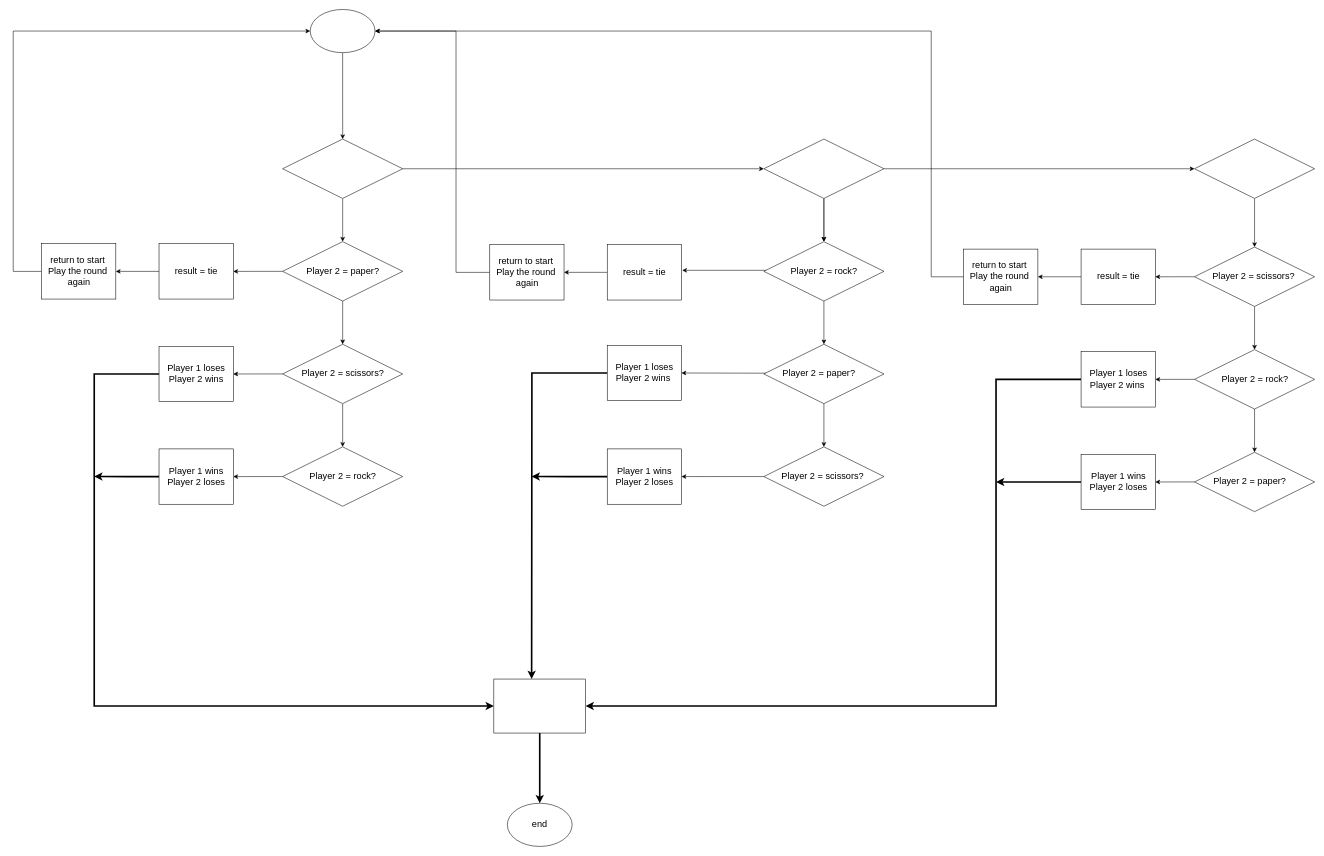
This 1324x856 diagram has some shape labels left out. The shapes that lost their labels are listed below. From the top down, each one's centre as x and y in pixels, then its label:
At point 342,31: "start".
At point 342,168: "Player 1= paper?".
At point 823,168: "rock?".
At point 1254,168: "scissors?".
At point 539,706: "Determine the winner".
